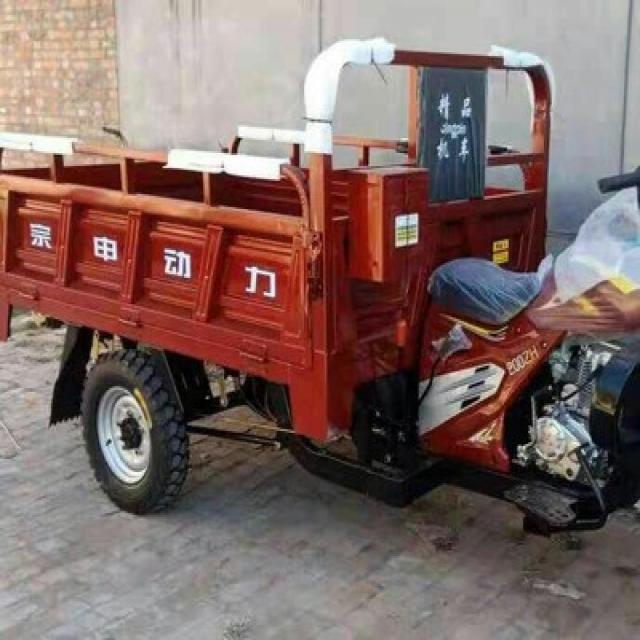tricycle: (4, 34, 638, 534)
